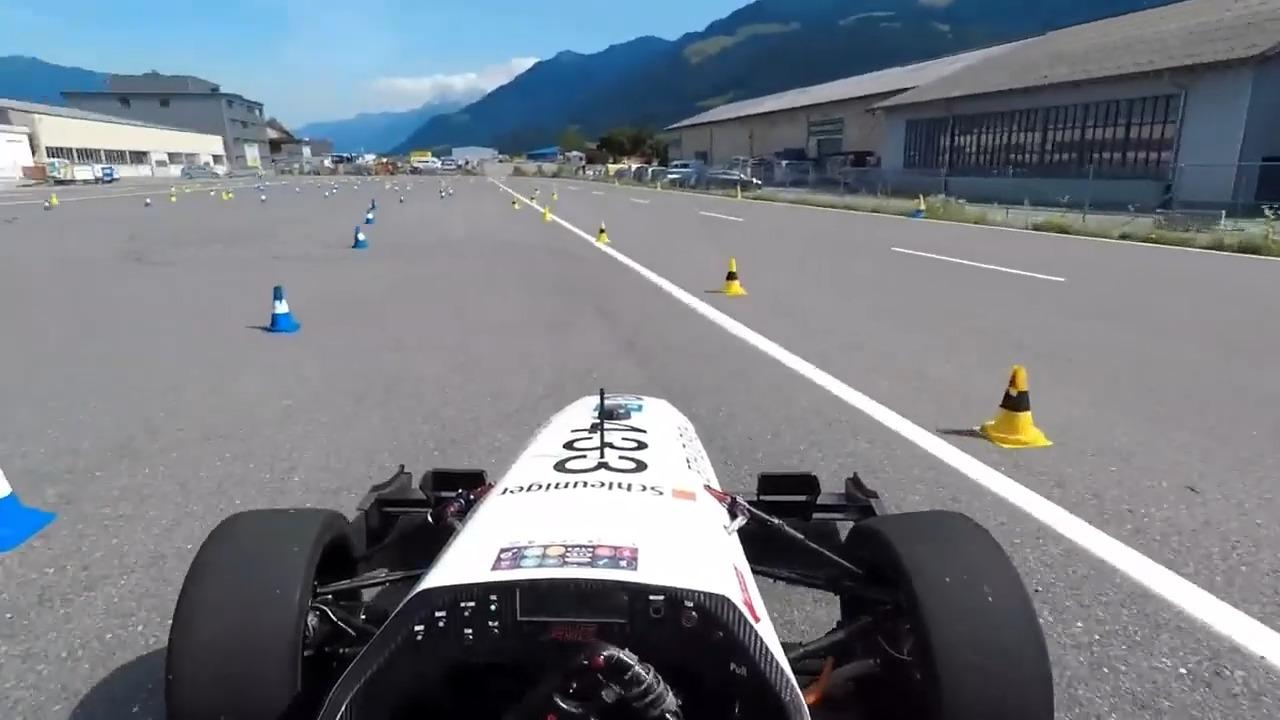blue_cone: (0, 426, 64, 558), (262, 282, 303, 335), (350, 223, 370, 250), (363, 208, 376, 224)
yellow_cone: (977, 361, 1056, 453), (717, 253, 749, 297), (593, 219, 612, 246)
